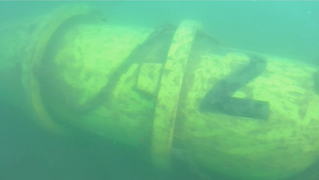2: (198, 47, 271, 121)
pipe: (1, 4, 319, 180)
